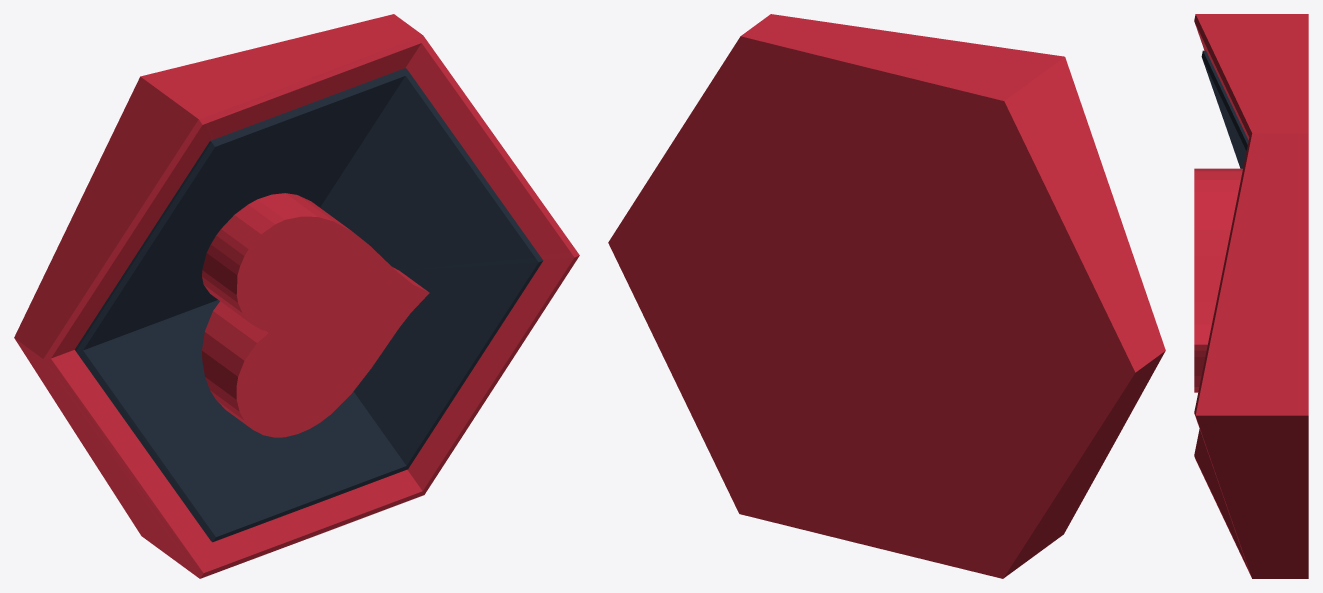
File: webt.obj
3 views of the same model, side by side, from view 1: azimuth 30°, elevation 25°; view 2: azimuth 150°, elevation 25°; view 3: azimuth 270°, elevation 25° (orthographic). The views are drawn at different scales.
Visible parts, largest first — view 1: Object.1; view 2: Object.1; view 3: Object.1.
Part boxes in pixels (box(x1,y1,x2,y2)): Object.1: box(14, 14, 579, 578); Object.1: box(608, 14, 1165, 578); Object.1: box(1194, 14, 1308, 578).
Size of the model in its own units: 66.56 by 57.74 by 13.46.
